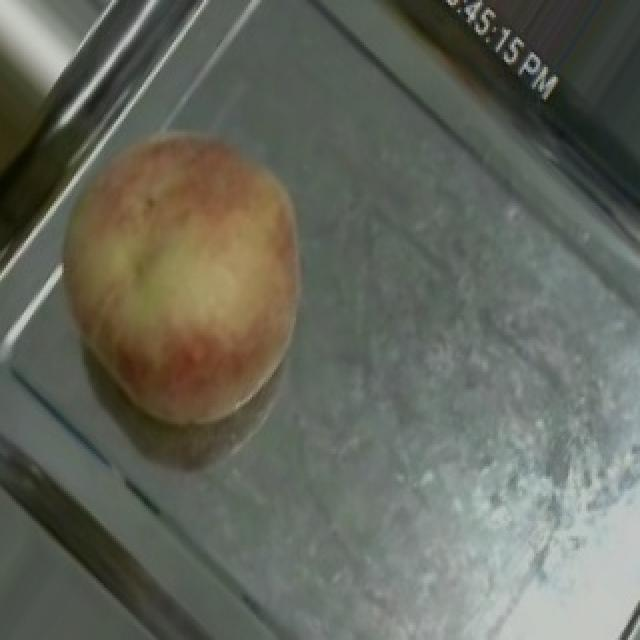Fruit: (16, 84, 352, 477)
